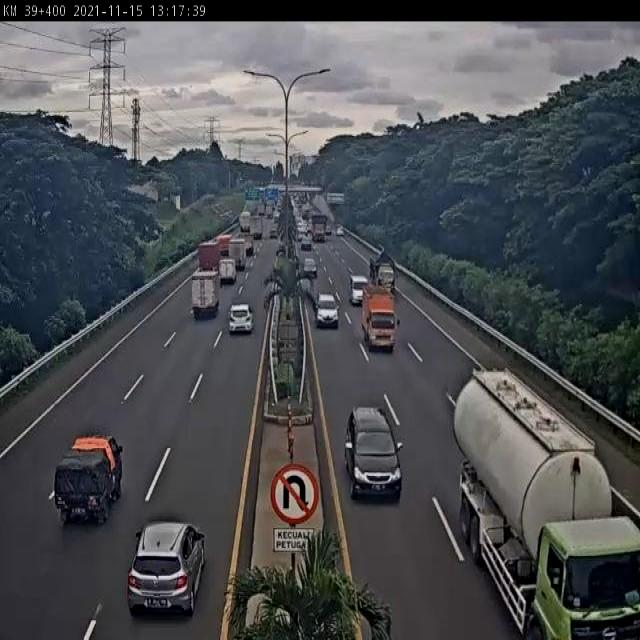Car: (125, 520, 207, 619), (344, 405, 403, 500), (314, 291, 338, 329), (228, 303, 254, 335), (349, 275, 368, 307), (303, 258, 317, 278), (336, 226, 344, 236), (325, 225, 332, 235)
Truck: (451, 366, 640, 640), (53, 434, 125, 524), (361, 283, 401, 353), (190, 269, 220, 322), (369, 248, 398, 290), (196, 238, 220, 272), (218, 256, 236, 288), (229, 240, 246, 273), (311, 214, 327, 244), (248, 213, 264, 240), (217, 233, 233, 256), (238, 233, 254, 256), (238, 210, 251, 233)
